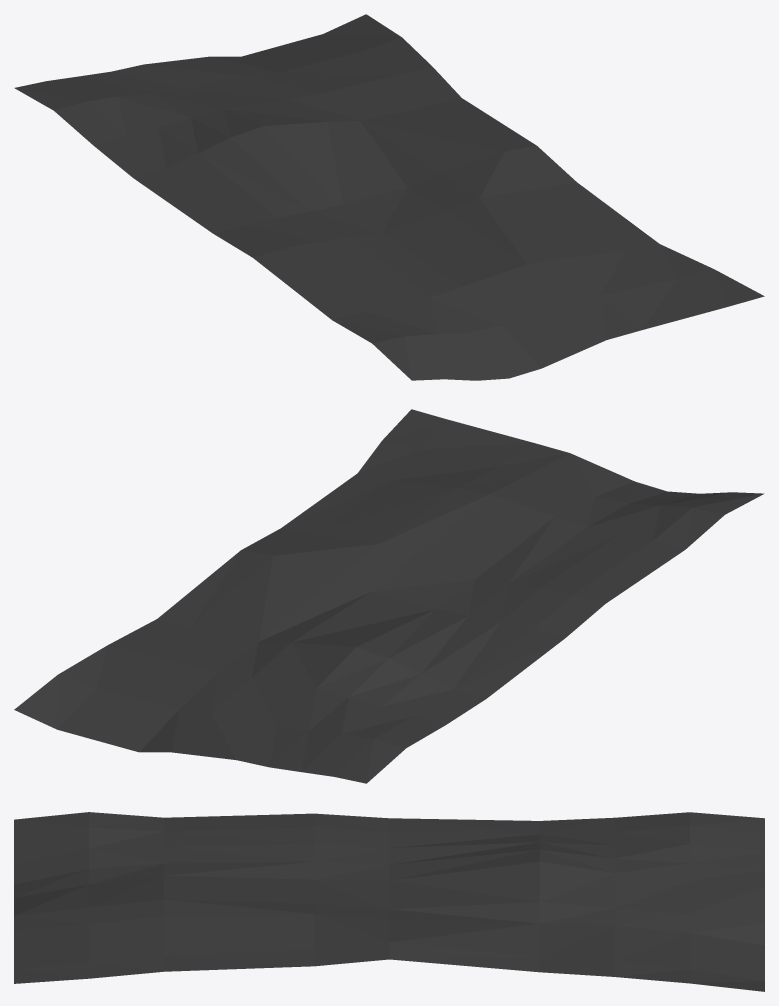
File: Cave_9C_Down.fbx
The picture shows the model from 3 angles, top to bottom: view 1: azimuth 30°, elevation 25°; view 2: azimuth 150°, elevation 25°; view 3: azimuth 270°, elevation 25°; orthographic projection. The views are drawn at different scales.
Visible parts, largest first — view 1: pPlane5; view 2: pPlane5; view 3: pPlane5.
Boxes of the visible parts, bbox=[...] form: pPlane5: bbox=[14, 14, 764, 380]; pPlane5: bbox=[14, 409, 764, 783]; pPlane5: bbox=[14, 812, 764, 991].
Size of the model in its own units: 8.71 by 0.9801 by 17.
